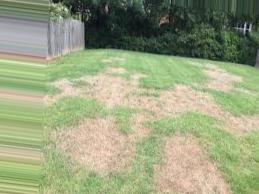patch: (72, 118, 129, 165), (81, 69, 143, 111), (163, 136, 205, 190), (145, 84, 201, 118), (204, 58, 244, 99), (211, 105, 254, 138)
